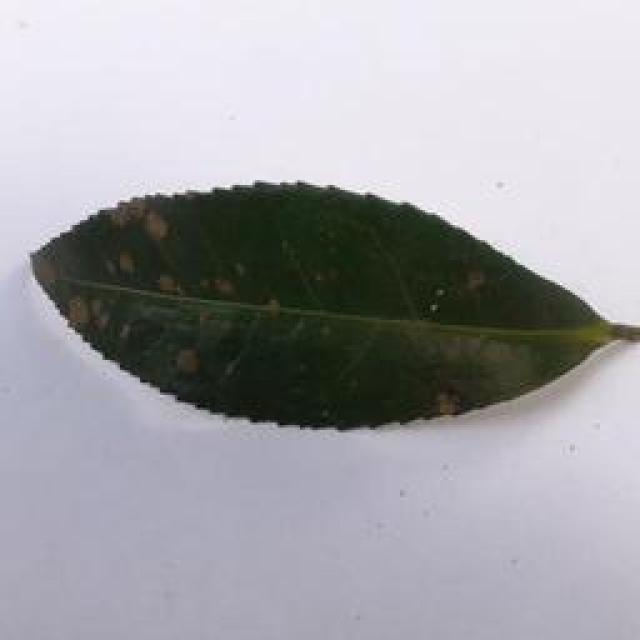Algal Leaf Spot: (30, 174, 609, 437)
